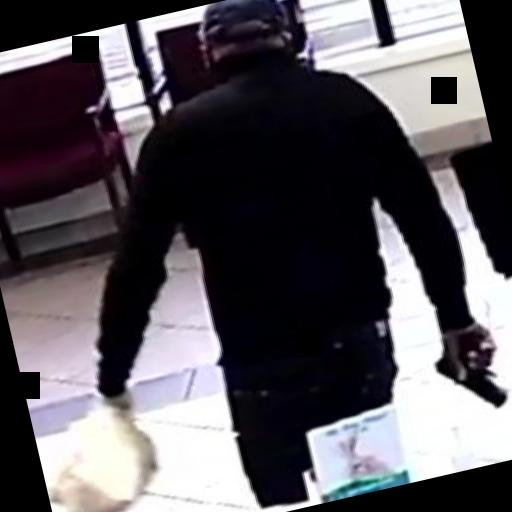Handgun: (418, 318, 512, 422)
